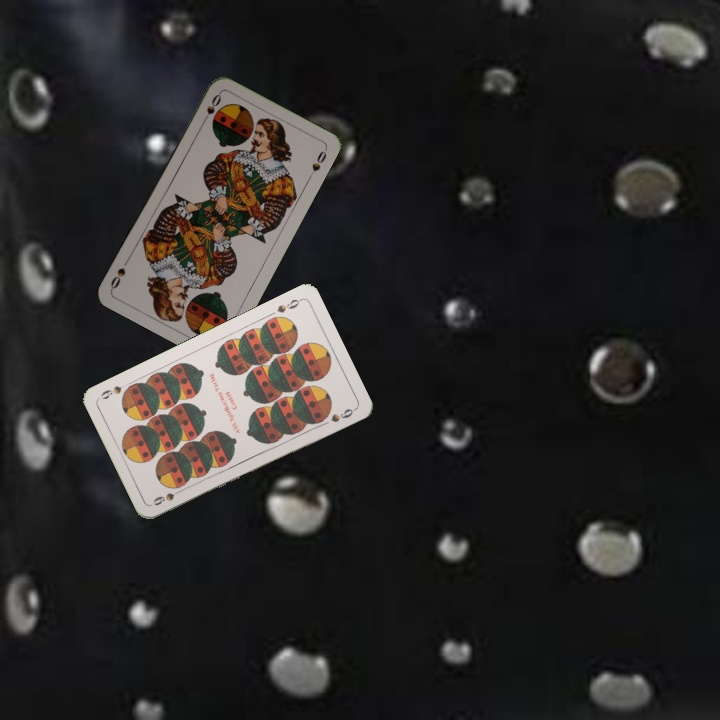S9: (149, 484, 187, 508), (273, 294, 304, 316)
SO: (198, 89, 224, 127)
